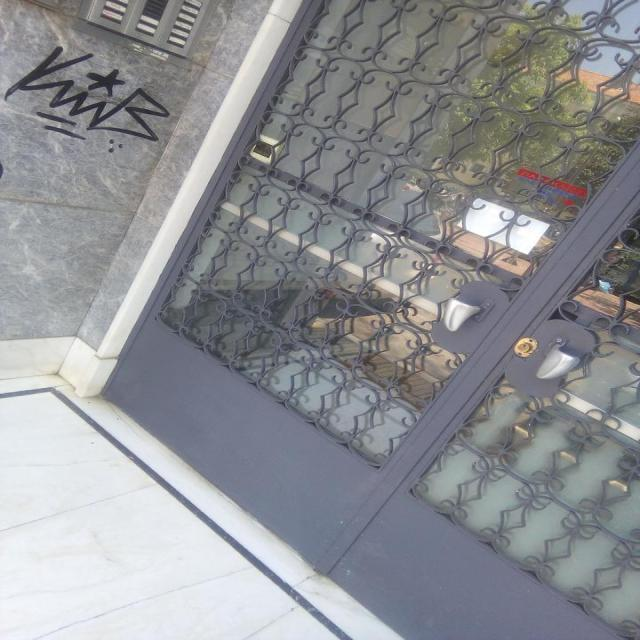nonspitting: (6, 46, 170, 155)
